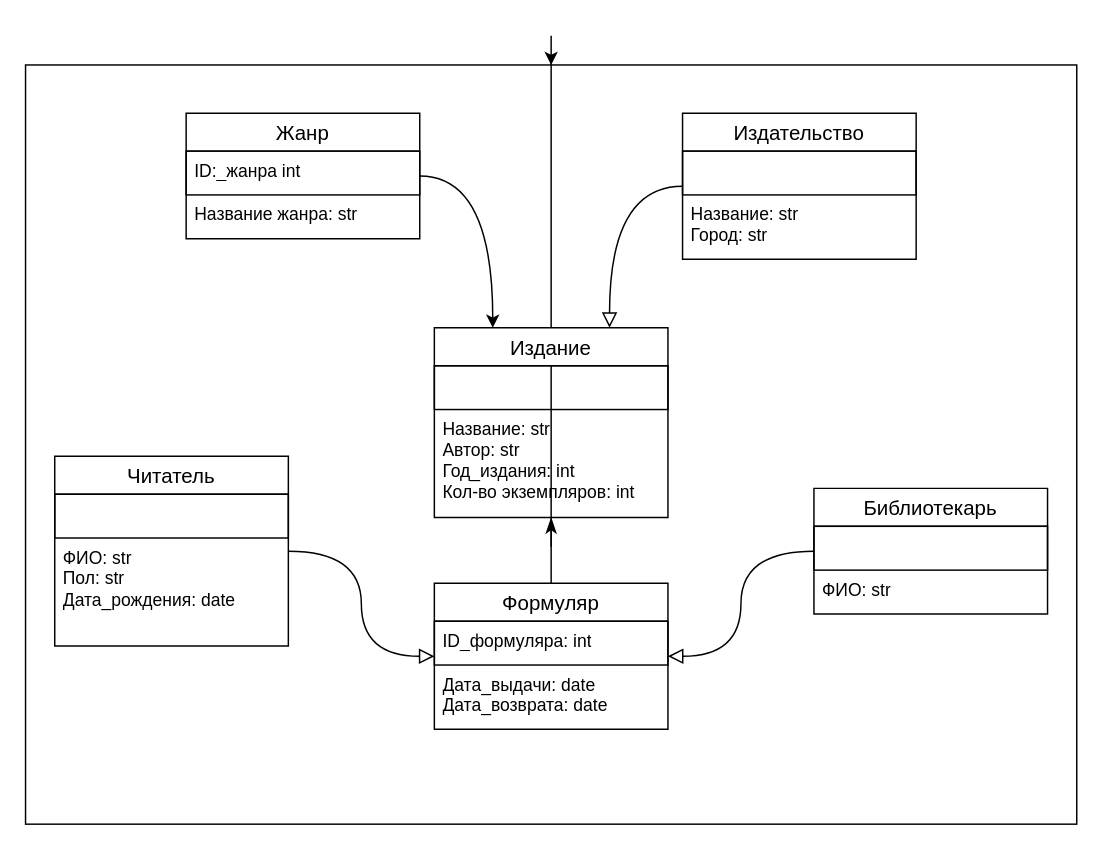
Some shapes in this 1102 by 850 pixel diagram are drawn without their labels. Each missing label, with the centre of its shape:
ID_издания: int: (550,387)
ID_издательства: int: (798,172)
ID_сотрудника: int: (930,547)
ID_читателя: int: (170,515)
